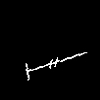treble_crochet: (26, 52, 86, 79)
